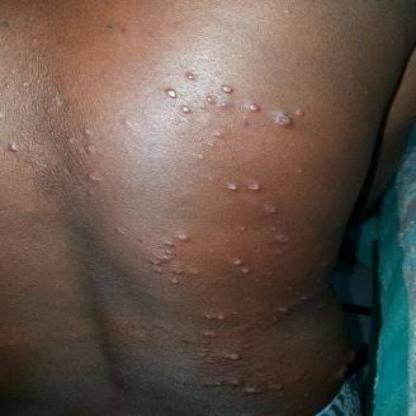Hansen-s Disease-Leprosy: (160, 68, 243, 153), (198, 311, 251, 386), (157, 221, 198, 285), (262, 105, 300, 136), (217, 179, 279, 197)
